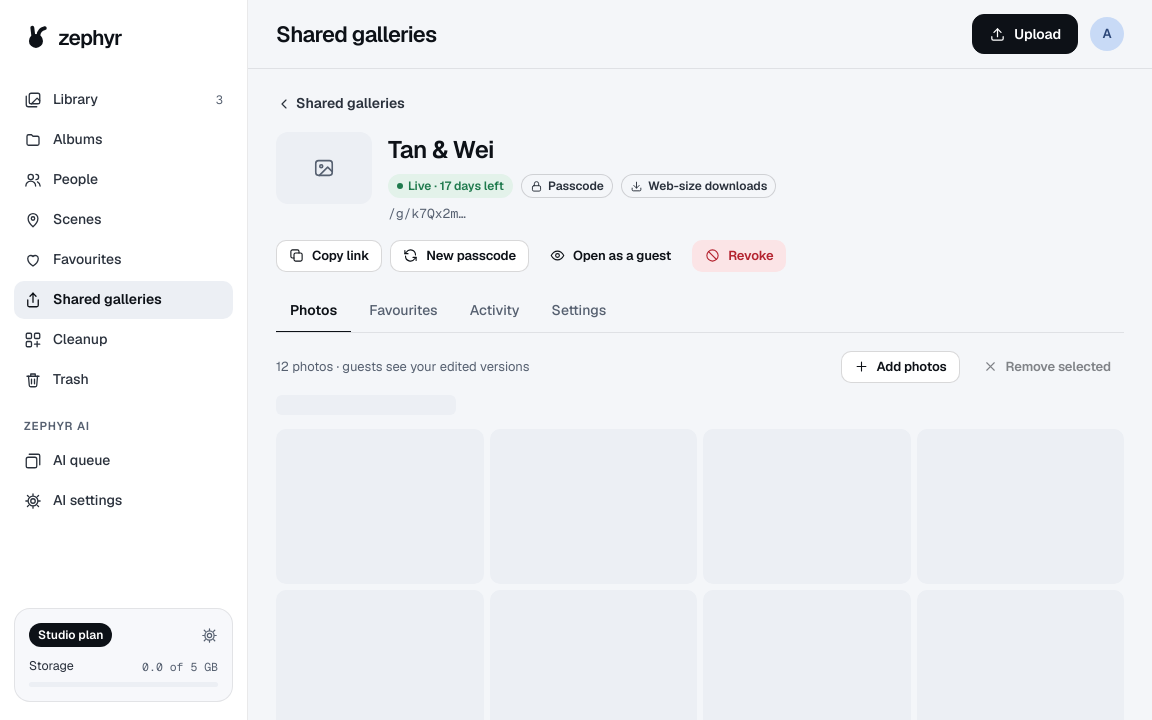
Scenario: gallery page: copy link › fetches the link from the owner-only route and copies it
expect the heading "Tan & Wei" is shown: met, box [388,134,494,165]
Click the button "Copy link" at coordinates (329, 256), box [276,240,382,272]
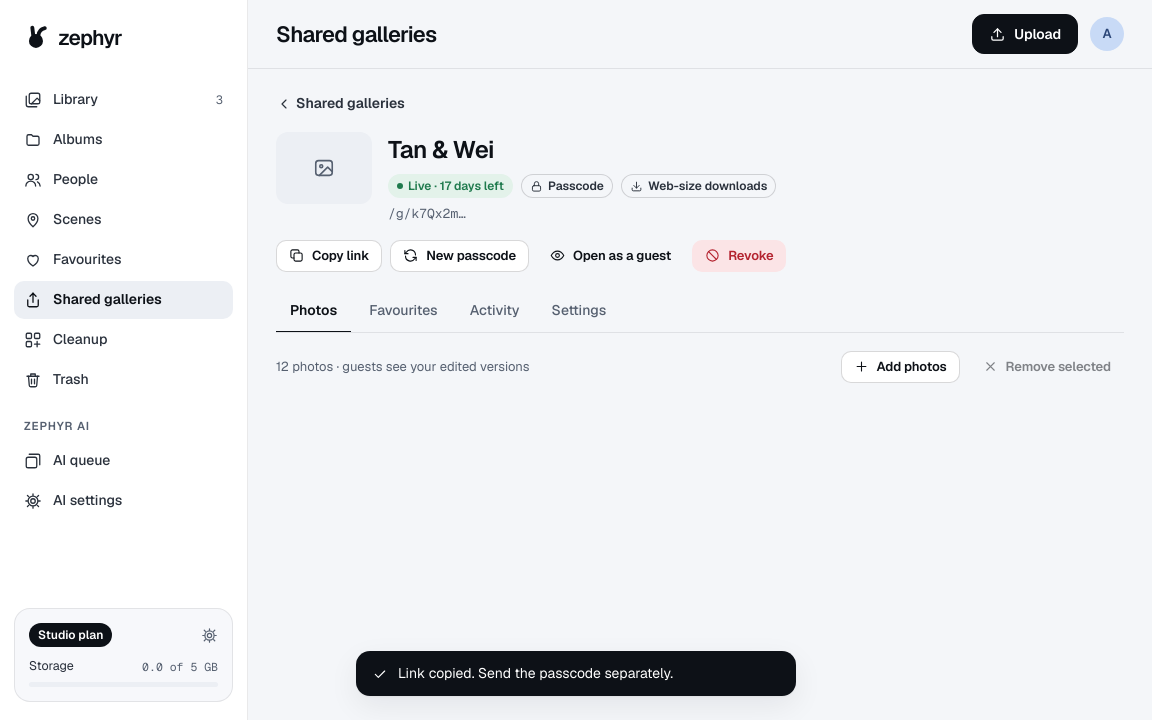
expect the text "Link copied. Send the passcode separately." is shown: met, box [398,663,673,684]
